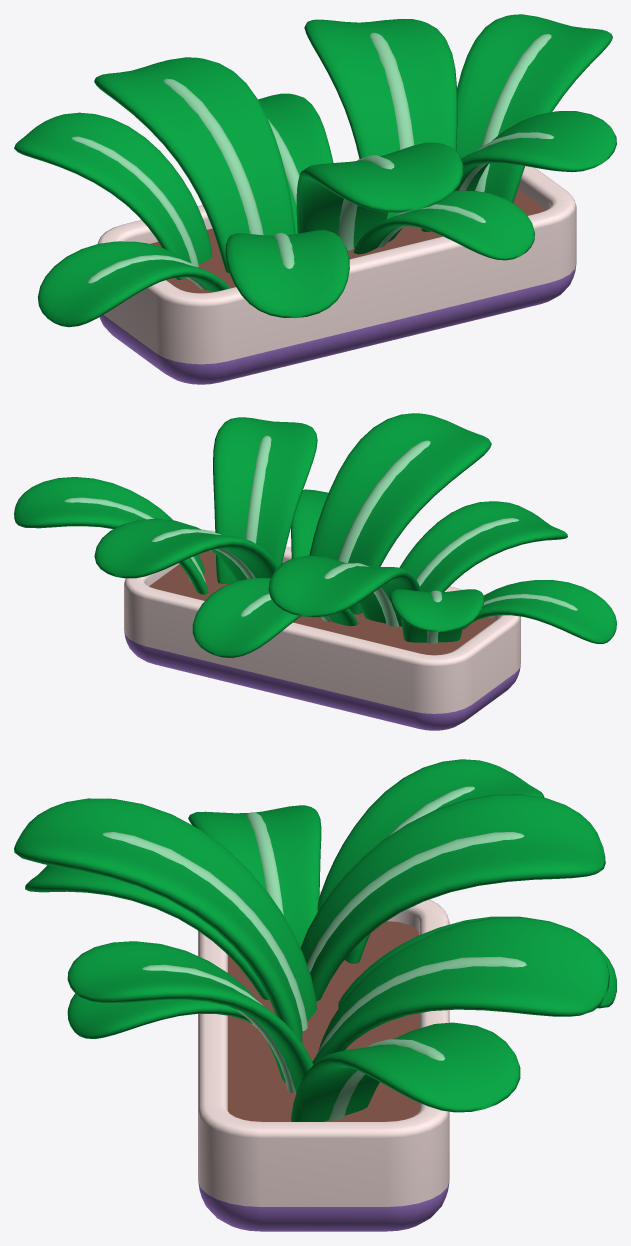
File: City_13_Plant_1.glb
3 views of the same model, one above another, from view 1: azimuth 30°, elevation 25°; view 2: azimuth 150°, elevation 25°; view 3: azimuth 270°, elevation 25° (orthographic). The views are drawn at different scales.
Visible parts, largest first — view 1: City_13_Plant_1; view 2: City_13_Plant_1; view 3: City_13_Plant_1.
Part boxes in pixels (bbox=[...]): City_13_Plant_1: bbox=[14, 14, 616, 384]; City_13_Plant_1: bbox=[14, 413, 616, 730]; City_13_Plant_1: bbox=[14, 759, 616, 1231].
Size of the model in its own units: 2.4 by 0.8362 by 1.64.
1 material, 1 textured.
